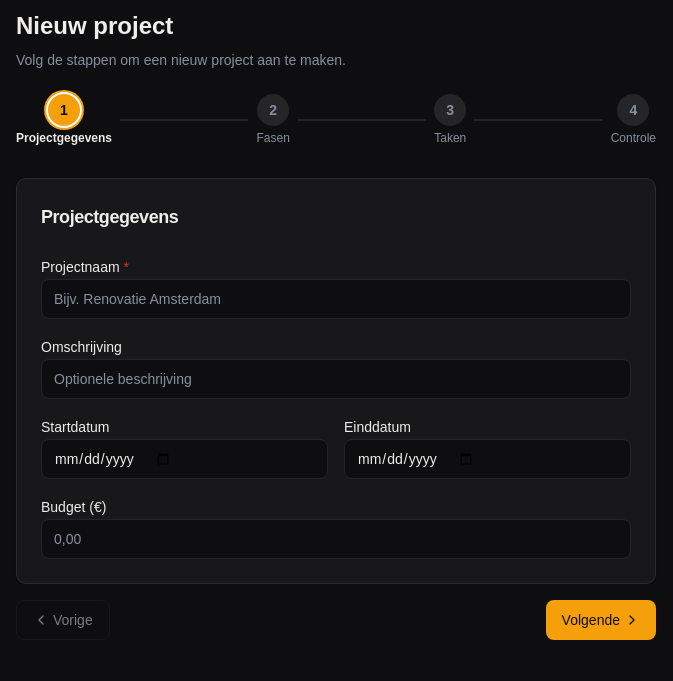
Test: ProjectWizard › step 1 blocks navigation when name is empty
Click the button "Volgende". click: (601,620)
box: [546,600,656,640]
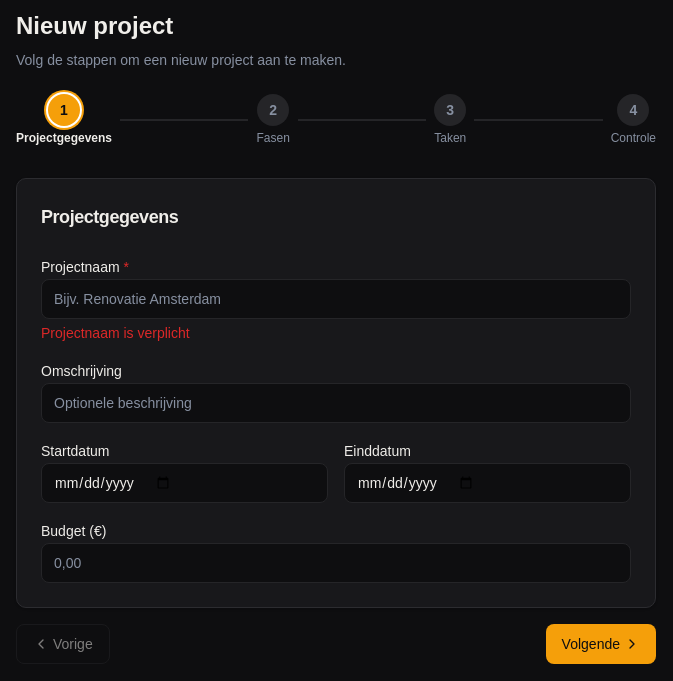
Expected: the field labelled "Projectnaam *" is shown, [41,279,631,319]
Expected: the text "Projectnaam is verplicht" is shown, [41,325,190,341]
